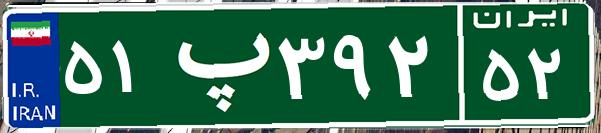1: (110, 28, 158, 105)
2: (385, 28, 445, 110), (525, 38, 570, 115)
3: (273, 28, 330, 110)
5: (57, 26, 110, 107), (475, 38, 525, 113)
9: (330, 28, 385, 110)
پ: (158, 15, 273, 115)
